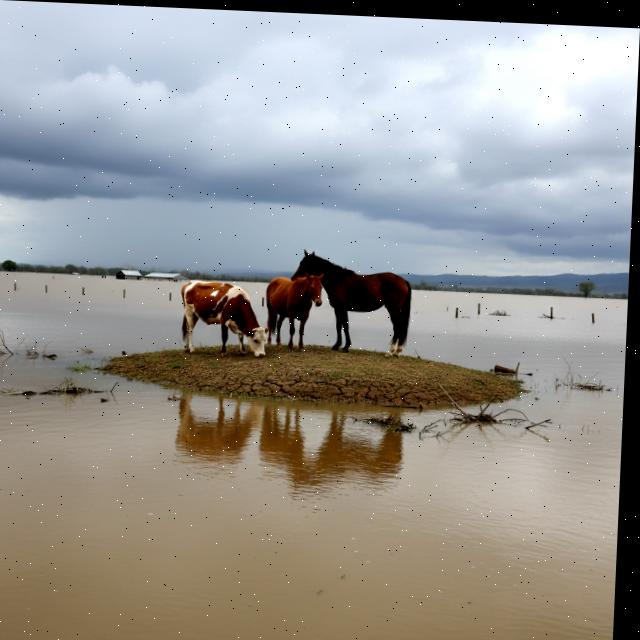cow: (173, 275, 271, 365)
horse: (288, 246, 419, 364), (258, 268, 331, 356)
